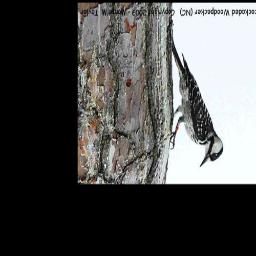Woodpecker: (168, 28, 225, 168)
